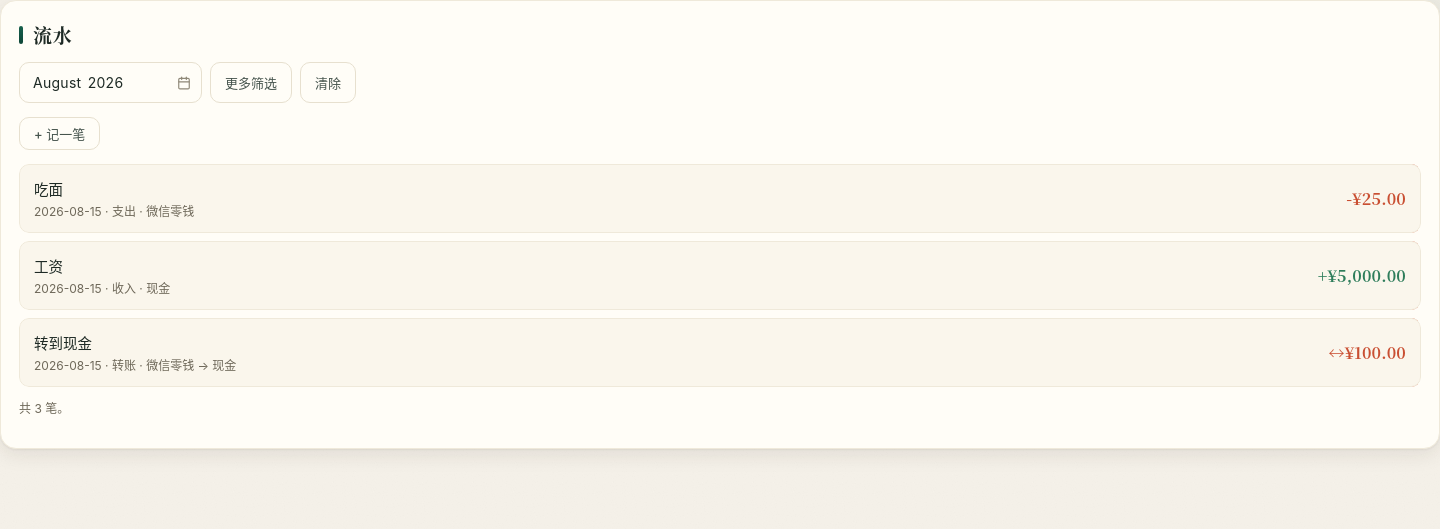
Test: TxListView 筛选 › 支付方式筛选命中转账对手方（现金）
This screenshot has width=1440, height=529.
Click the button "更多筛选" at point(251, 82), box [210,62,292,103]
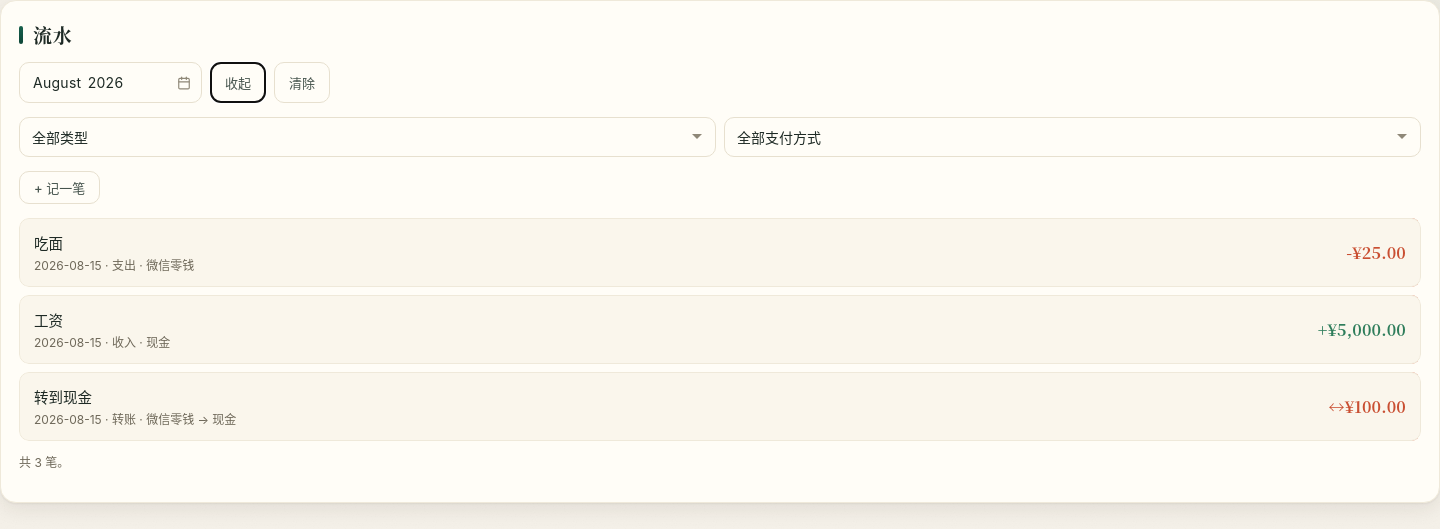
Select "现金" in the dropdown named "支付方式" at point(1072, 137), box [724,117,1421,157]
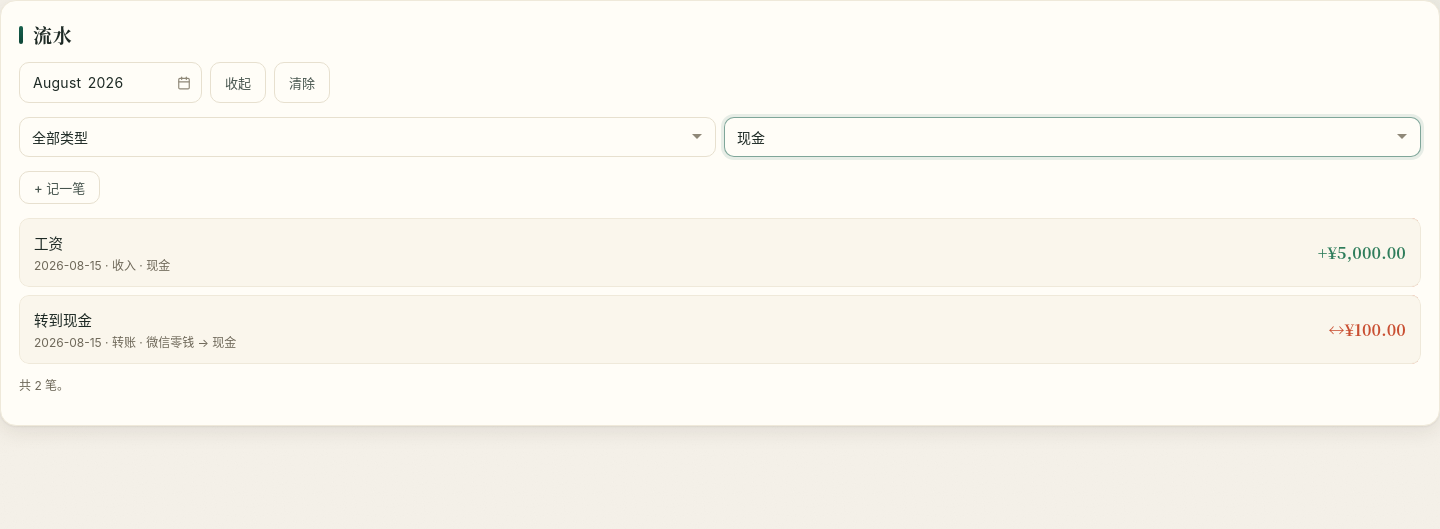
Expected: the text "工资" is shown, [34,235,63,252]
Expected: the text "共 2 笔。" is shown, [19,378,69,393]
